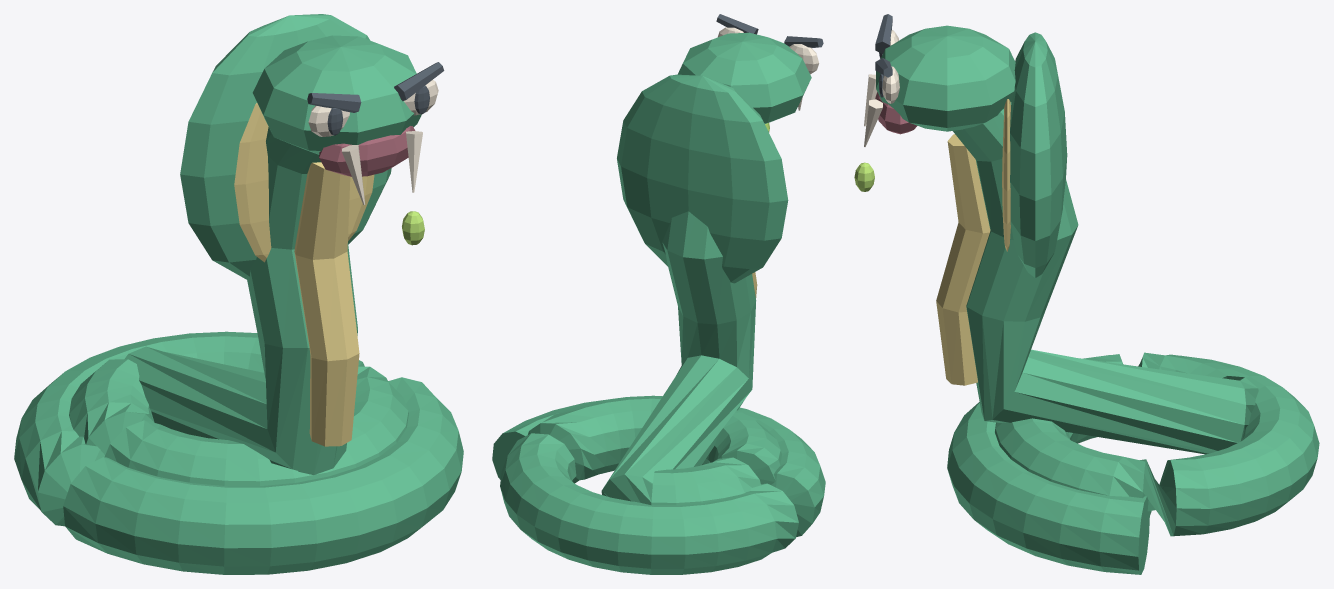
Rendered from venomous-snake.glb.
3 views of the same model, side by side, from view 1: azimuth 30°, elevation 25°; view 2: azimuth 150°, elevation 25°; view 3: azimuth 270°, elevation 25° (orthographic). The views are drawn at different scales.
Parts seen in each view (by area): view 1: coiled_body, cobra_hood, golden_belly, head, golden_hood_front, open_mouth, angry_brow_-1, angry_brow_1, eye_-1, fang_-1, fang_1, venom_drop; view 2: coiled_body, cobra_hood, head, eye_-1; view 3: coiled_body, cobra_hood, head, golden_belly, golden_hood_front, open_mouth.
Part boxes in pixels (x1,y1,x2,y2): coiled_body: (14,127,463,574); cobra_hood: (180,14,391,280); golden_belly: (294,162,359,446); head: (252,35,421,154); golden_hood_front: (234,103,374,262); open_mouth: (319,126,415,176); angry_brow_-1: (307,93,361,112); angry_brow_1: (394,62,444,101); eye_-1: (308,105,349,136); fang_-1: (342,145,365,204); fang_1: (406,131,422,192); venom_drop: (402,211,424,245); coiled_body: (492,211,825,574); cobra_hood: (617,74,788,283); head: (677,32,811,123); eye_-1: (789,44,819,74); coiled_body: (947,102,1319,574); cobra_hood: (1010,32,1067,277); head: (876,25,1015,131); golden_belly: (936,134,990,385); golden_hood_front: (1002,99,1010,251); open_mouth: (875,92,917,134).
Bounding box in the file's own units: 2.77 × 3.6 × 3.27.
